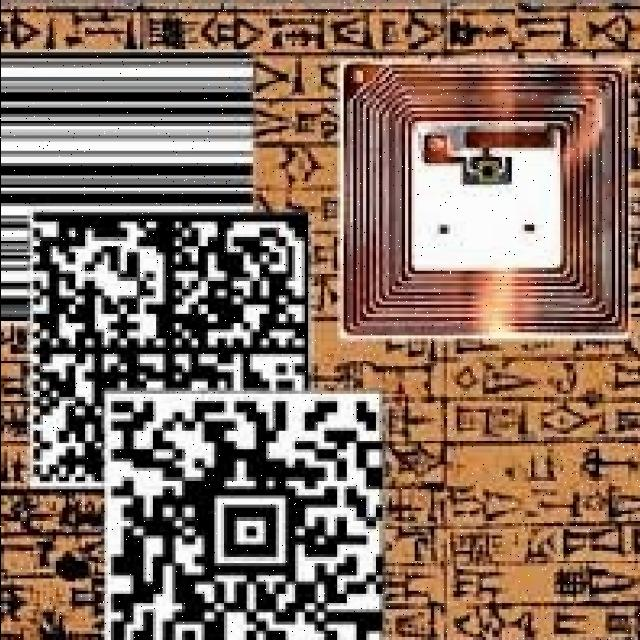datamatrix: (23, 206, 310, 502)
